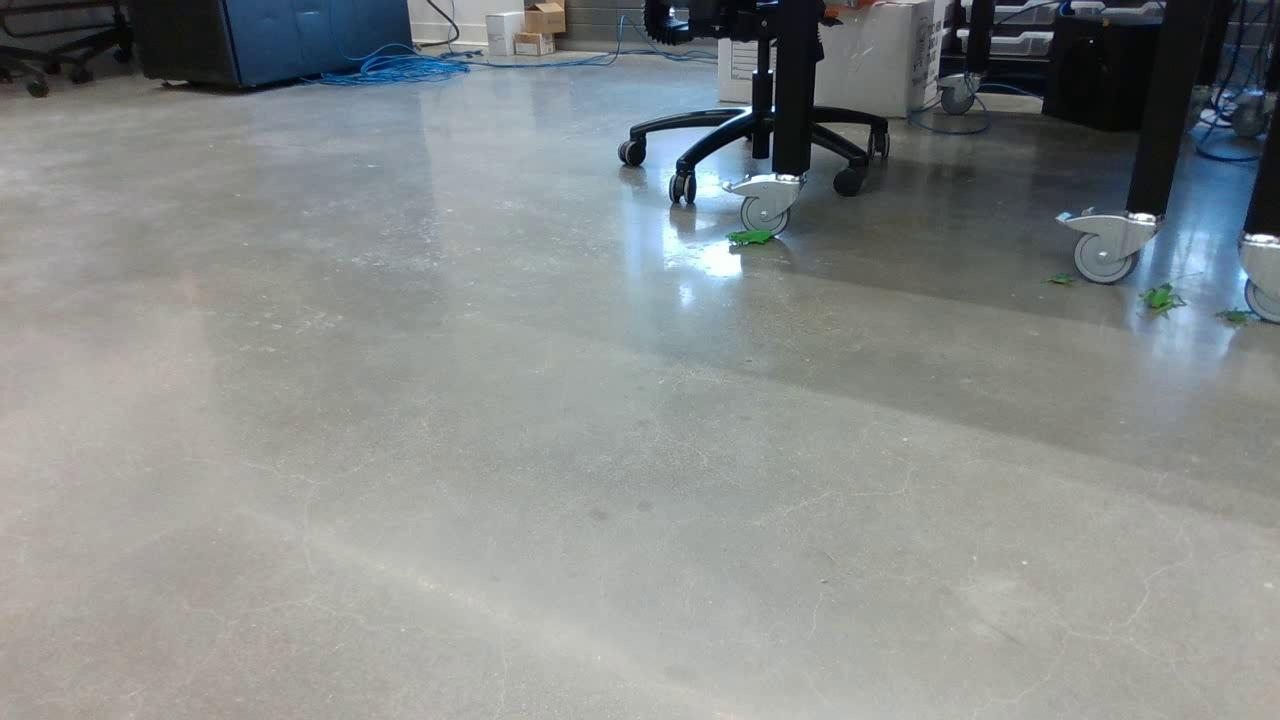grasshopper: (1141, 271, 1186, 321), (723, 229, 775, 251)
